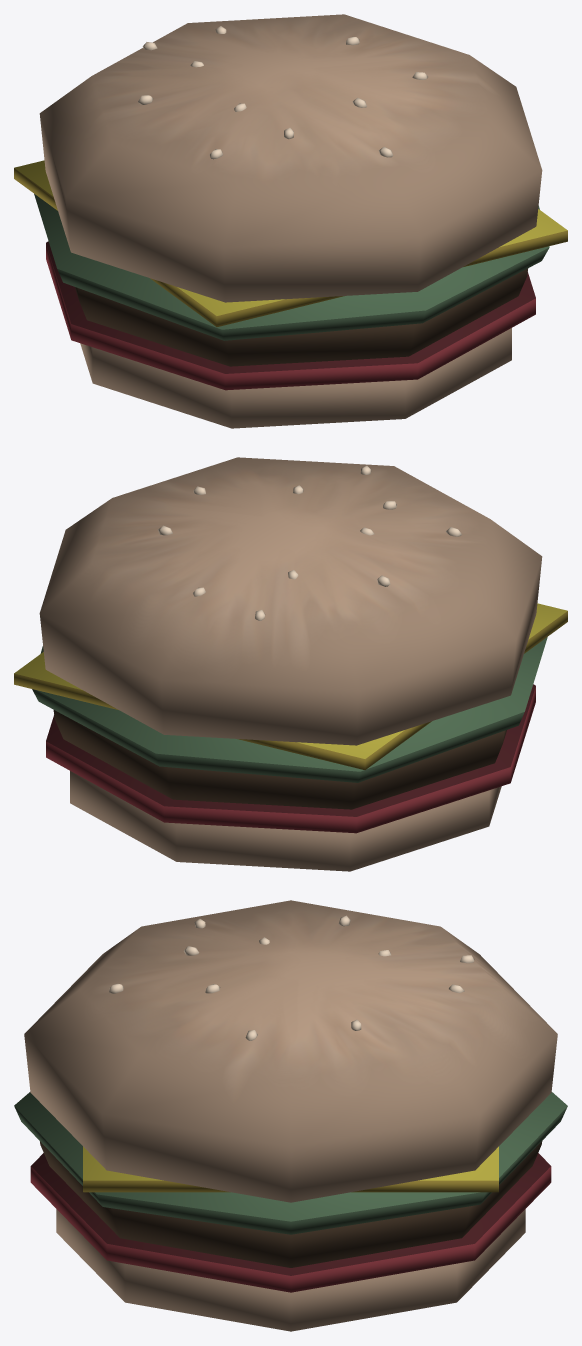
File: borger.fbx
The picture shows the model from 3 angles, top to bottom: view 1: azimuth 30°, elevation 25°; view 2: azimuth 150°, elevation 25°; view 3: azimuth 270°, elevation 25°; orthographic projection. The views are drawn at different scales.
Parts seen in each view (by area): view 1: Cylinder; view 2: Cylinder; view 3: Cylinder.
Part boxes in pixels (x1,y1,x2,y2): Cylinder: [14, 14, 567, 428]; Cylinder: [14, 457, 567, 871]; Cylinder: [14, 900, 567, 1331].
Size of the model in its own units: 236 by 236 by 126.
